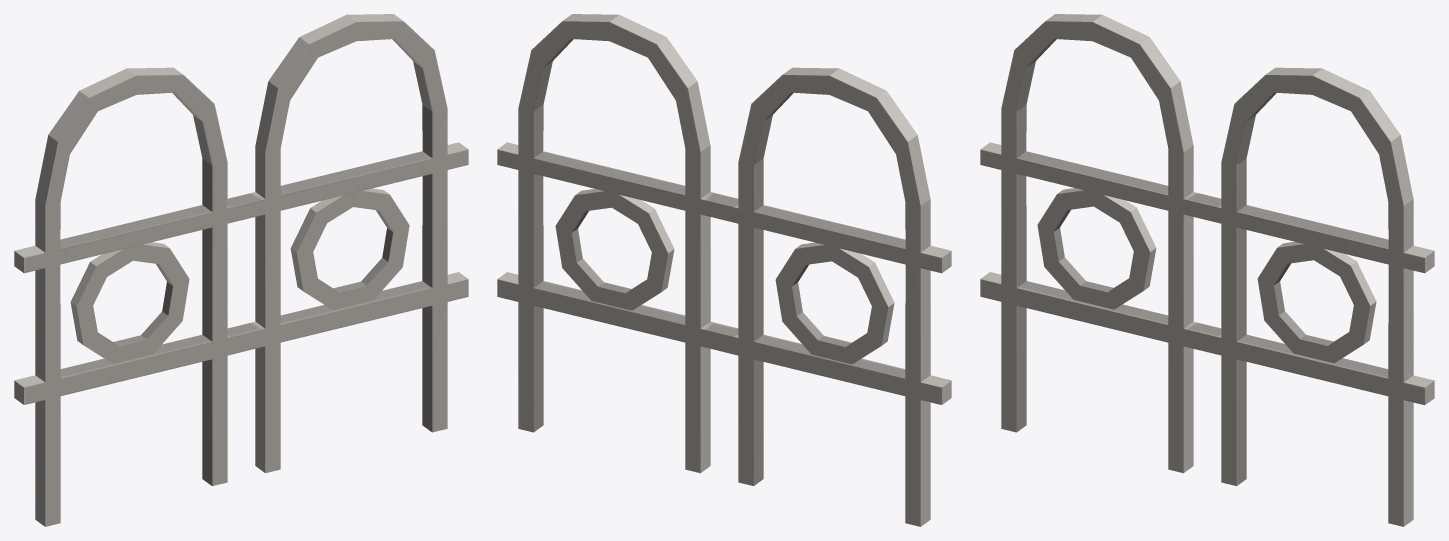
The model's file is city_fence.fbx.
3 renders of one model, left to right at view 1: azimuth 30°, elevation 25°; view 2: azimuth 150°, elevation 25°; view 3: azimuth 330°, elevation 25°, orthographic.
Visible parts, largest first — view 1: city:polySurface322; view 2: city:polySurface322; view 3: city:polySurface322.
Boxes of the visible parts, x1,y1,x2,y2 form: city:polySurface322: (14,14,468,526); city:polySurface322: (497,14,951,526); city:polySurface322: (980,14,1434,526).
Size of the model in its own units: 1.24 by 1.14 by 0.0476.
